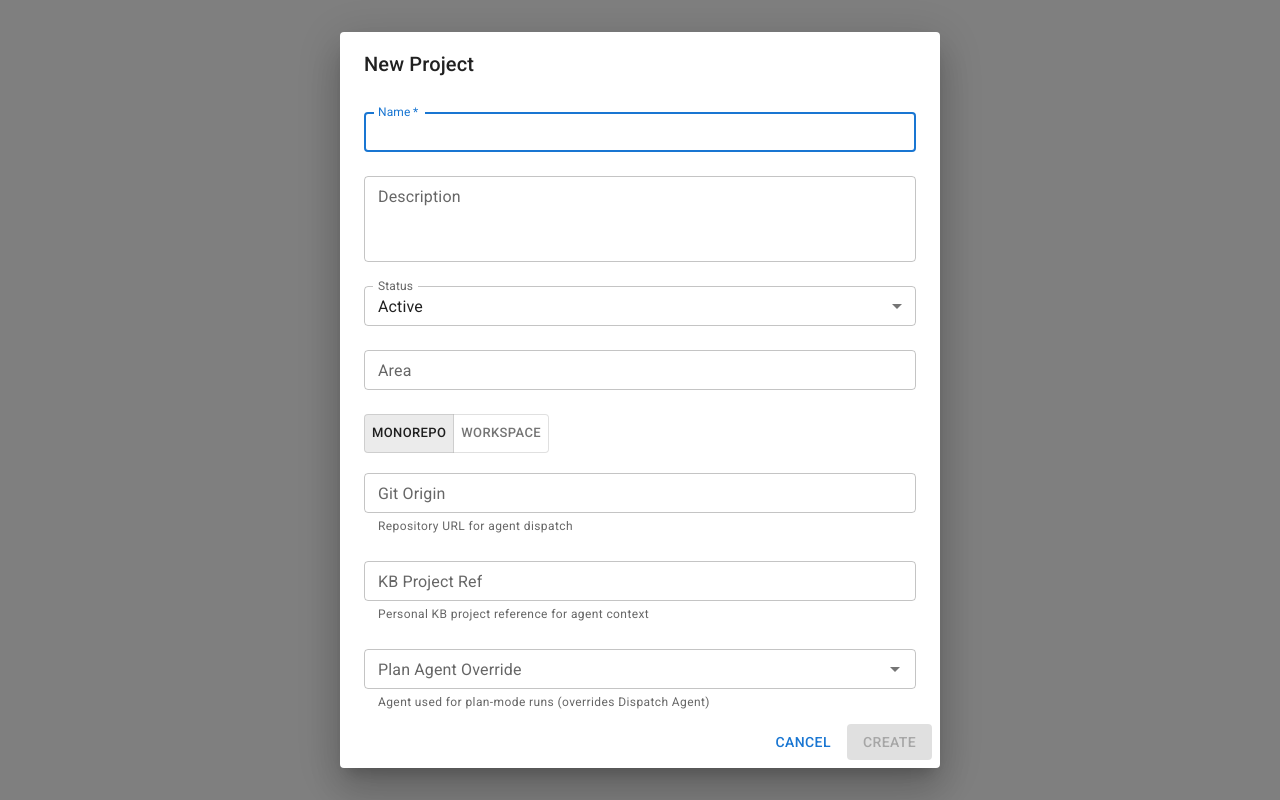
it: ProjectEditDialog › (c) parity rule: Save enabled with non-empty name and zero non-empty repos in workspace mode › Save is enabled when workspace mode has an empty repo list
This screenshot has width=1280, height=800.
Expected: the button "Workspace" is shown, [453,414,549,453]
Type "My Workspace Project" into the field labelled "Name *" at (640, 132), box [364,112,916,152]
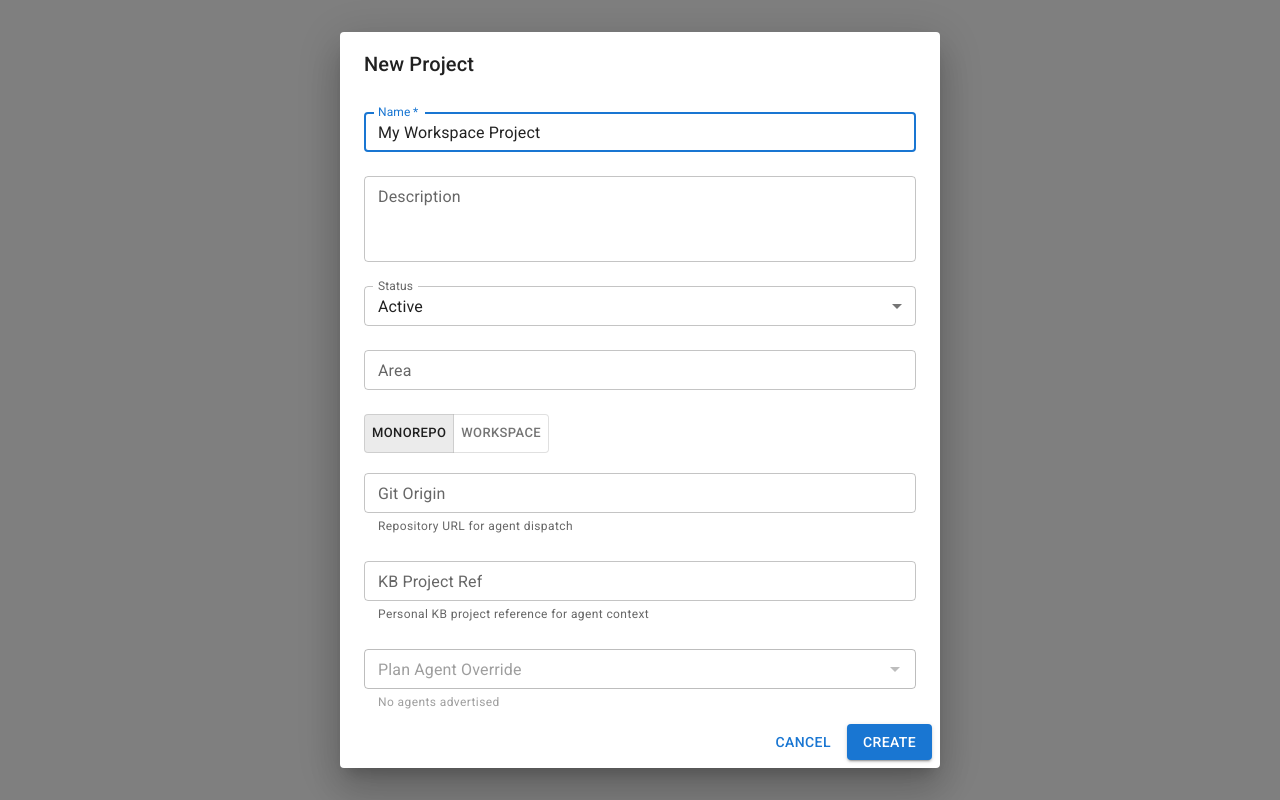
Switch to workspace mode (one empty repo row by default)
Click the button "Workspace" at (501, 433), box [453,414,549,453]
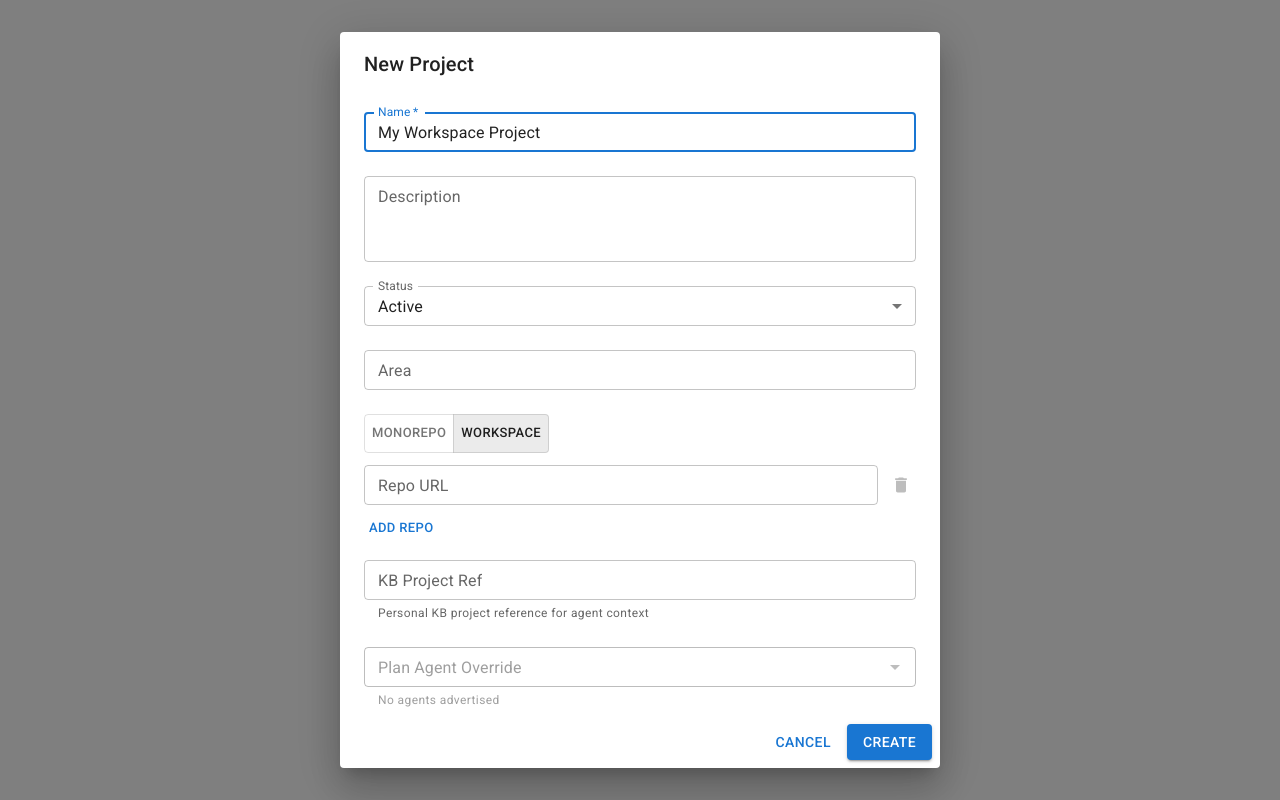
Now the button "Create" is enabled, box [847,724,932,760]
Now the label labelled "Git Origin" is gone
